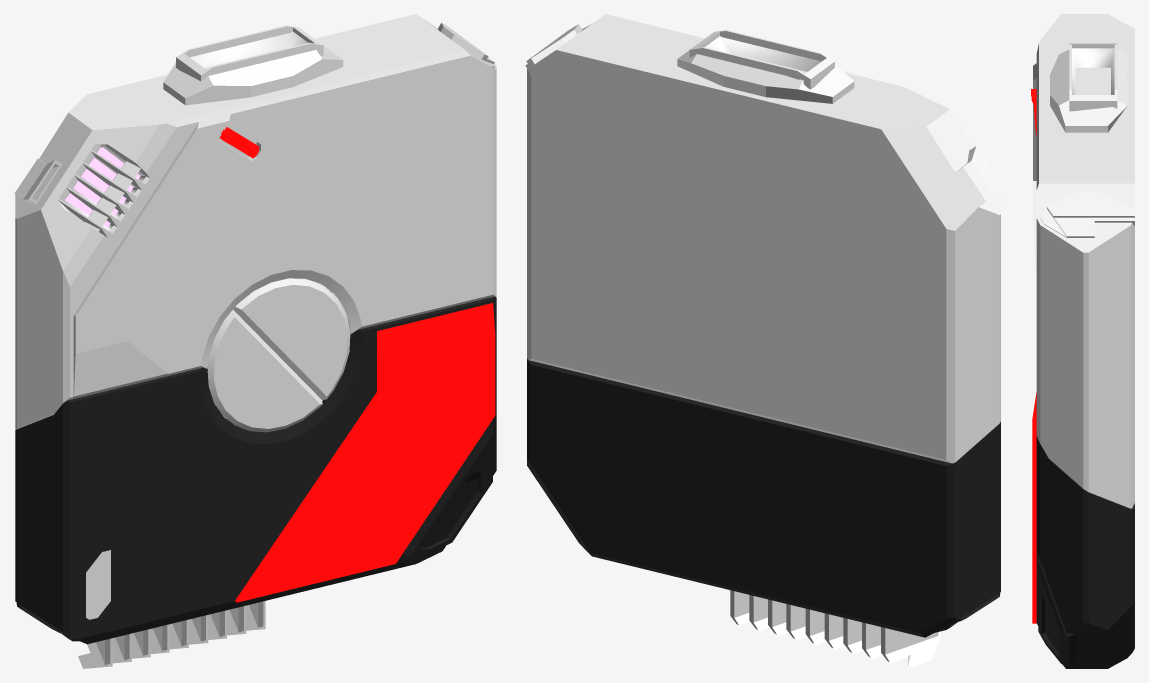
Rendered from EMMISION_BADGE7.glb.
The picture shows the model from 3 angles, left to right: view 1: azimuth 30°, elevation 25°; view 2: azimuth 150°, elevation 25°; view 3: azimuth 270°, elevation 25°; orthographic projection. The views are drawn at different scales.
Visible parts, largest first — view 1: MAIN.001, Solid.003, Extruded.046, Extruded.047, Extruded.042, Extruded.059; view 2: MAIN.001, Solid.003, Extruded.059; view 3: MAIN.001, Solid.003, Extruded.046.
Part boxes in pixels (left/top/right/bottom): MAIN.001: left=14, top=14, right=496, bottom=429; Solid.003: left=15, top=296, right=496, bottom=644; Extruded.046: left=235, top=303, right=495, bottom=602; Extruded.047: left=207, top=278, right=350, bottom=432; Extruded.042: left=86, top=550, right=110, bottom=619; Extruded.059: left=78, top=638, right=112, bottom=668; MAIN.001: left=525, top=14, right=1002, bottom=463; Solid.003: left=527, top=358, right=1000, bottom=637; Extruded.059: left=881, top=627, right=941, bottom=668; MAIN.001: left=1033, top=14, right=1134, bottom=508; Solid.003: left=1036, top=436, right=1134, bottom=668; Extruded.046: left=1032, top=392, right=1036, bottom=623.
Bounding box in the file's own units: 0.6584 × 0.7613 × 0.1284.
Materials: 6 (2 with a texture image).
